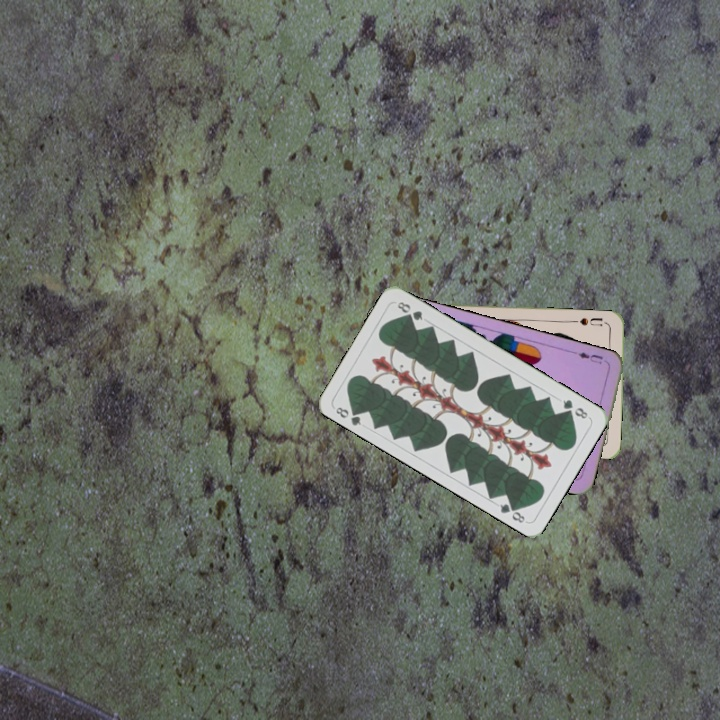EU: (574, 348, 605, 367)
G8: (558, 395, 590, 421), (332, 403, 364, 428)
SU: (570, 314, 605, 328)
